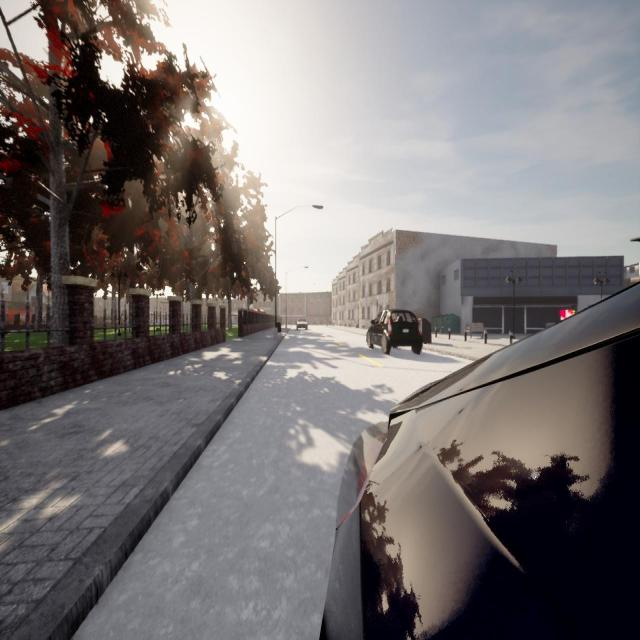Vehicle: (321, 282, 640, 640), (366, 308, 423, 356), (296, 319, 308, 330)
